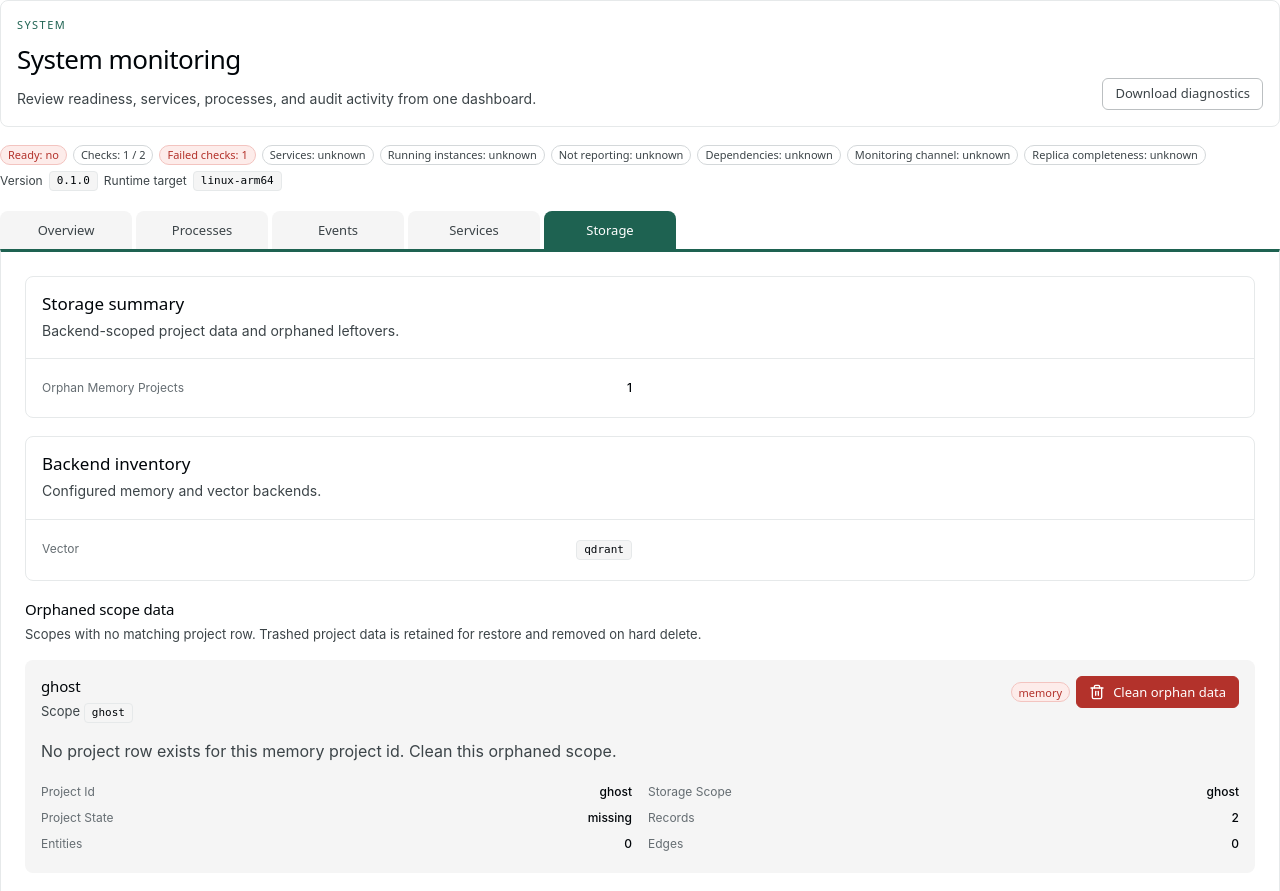
Test case: MonitoringPage › requests orphan storage cleanup for missing scopes
Click the button "Clean orphan data" at [1158, 692], box [1076, 676, 1239, 708]
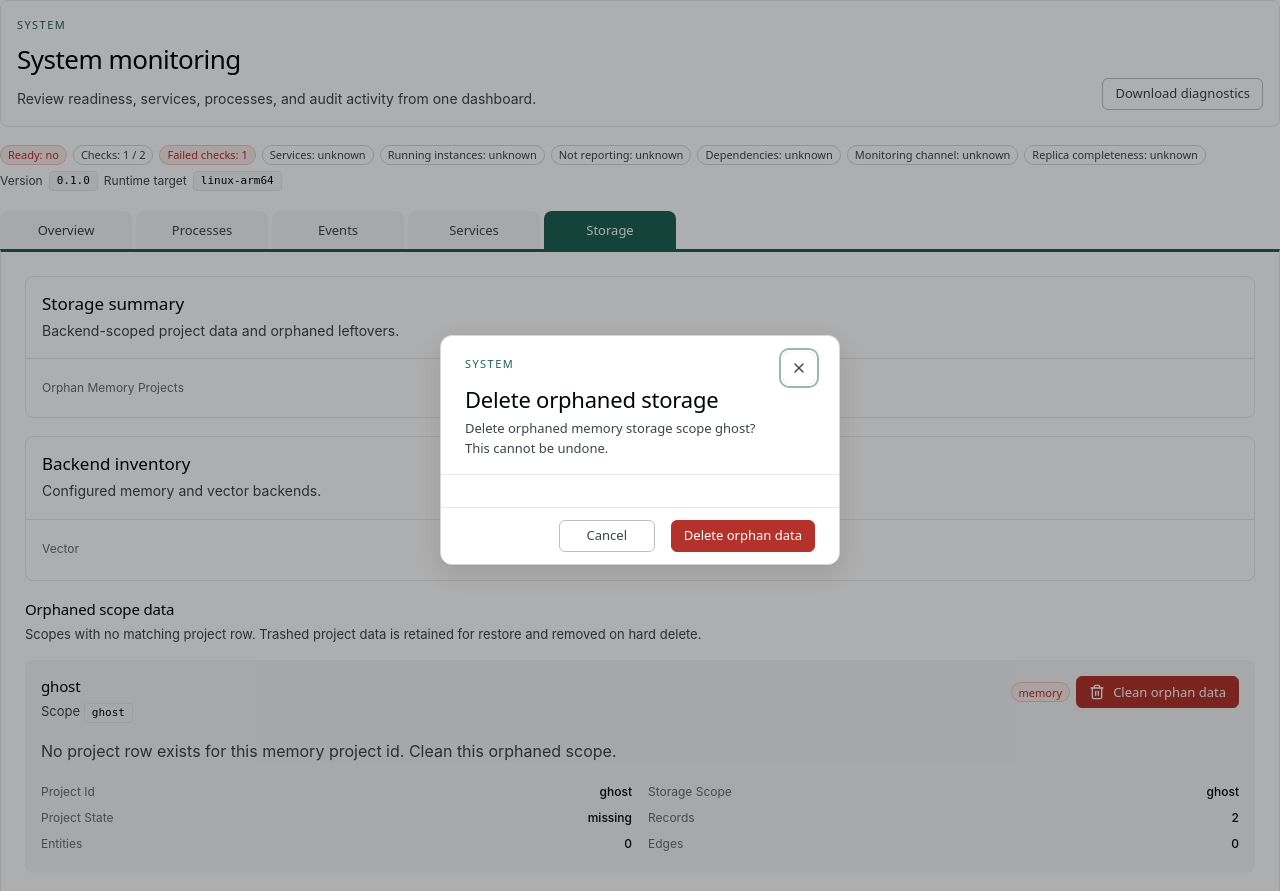
Check: the text "Delete orphaned memory storage scope ghost" is shown, box [465, 419, 756, 457]
Click the button "Delete orphan data" at [743, 536], box [671, 520, 815, 552]
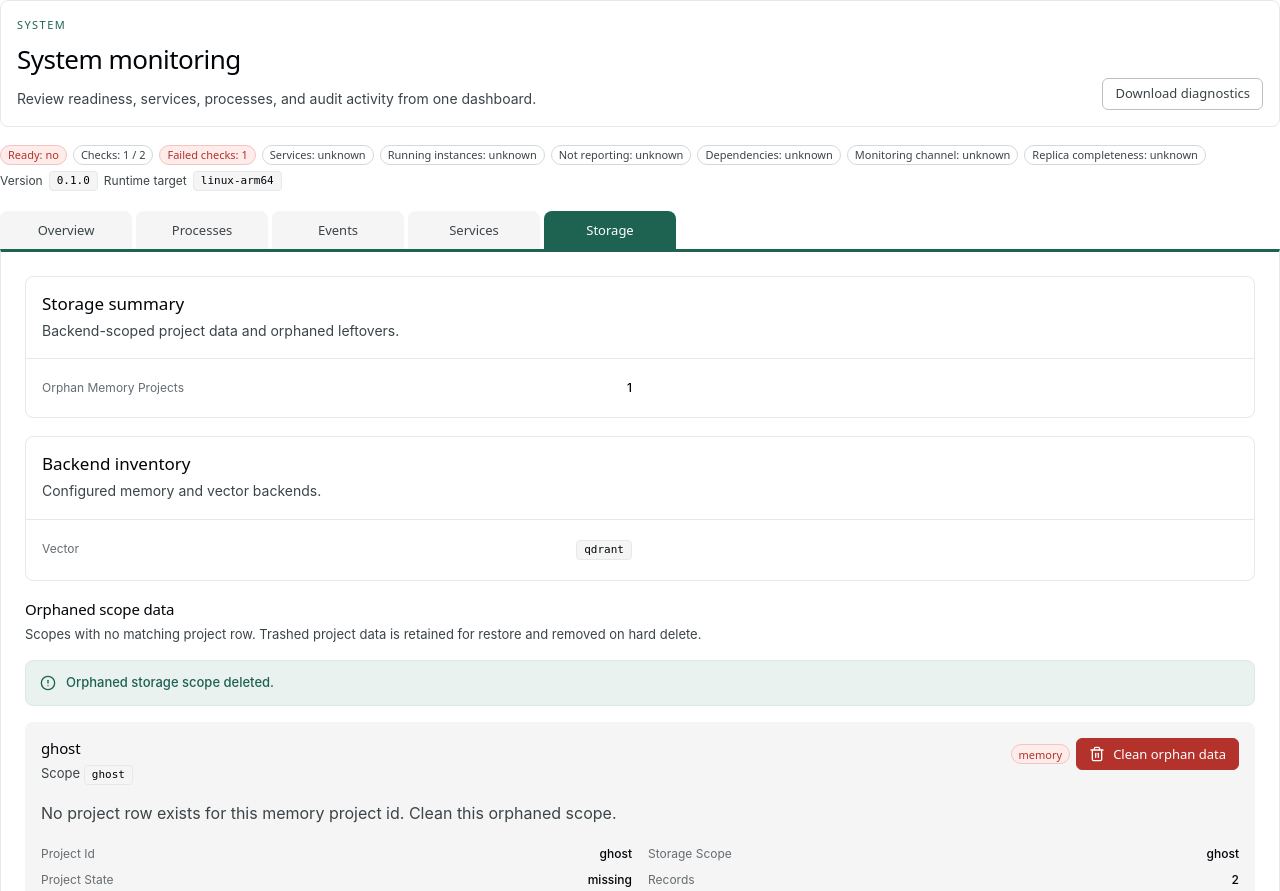
Check: the text "Orphaned storage scope deleted." is shown, box [66, 674, 274, 690]
